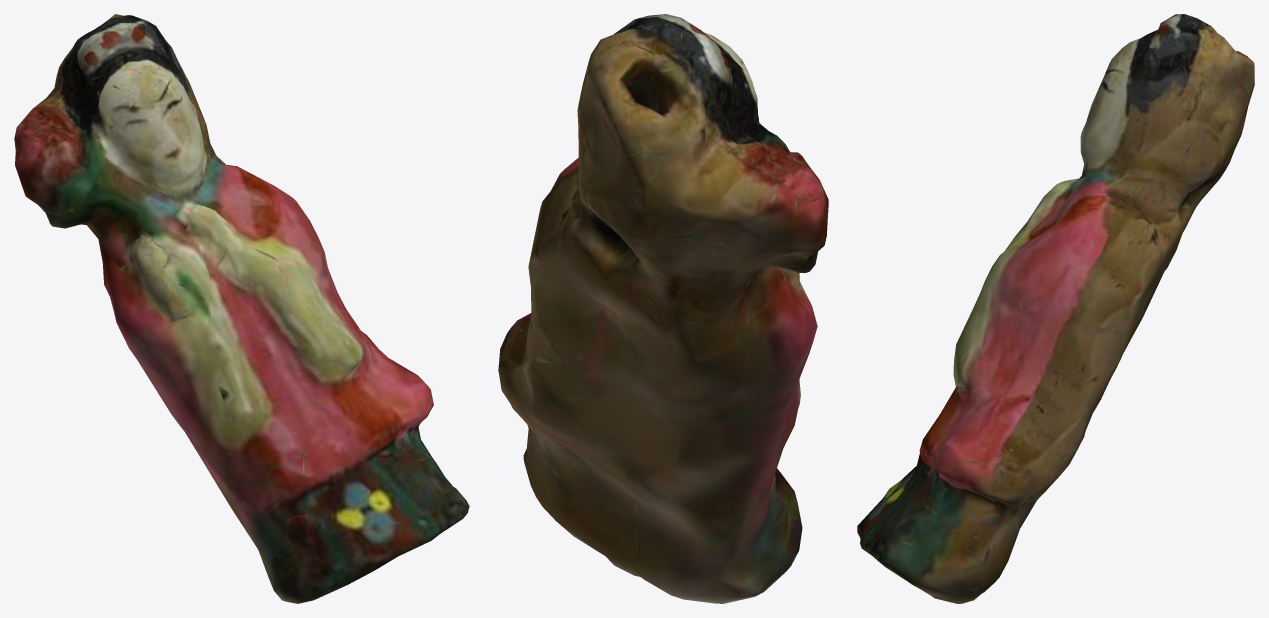
Rendered from hall.glb.
3 renders of one model, left to right at view 1: azimuth 30°, elevation 25°; view 2: azimuth 150°, elevation 25°; view 3: azimuth 270°, elevation 25°, orthographic. The views are drawn at different scales.
Bounding box in the file's own units: 0.5037 × 0.7556 × 0.5196.
Materials: 1 (1 with a texture image).
